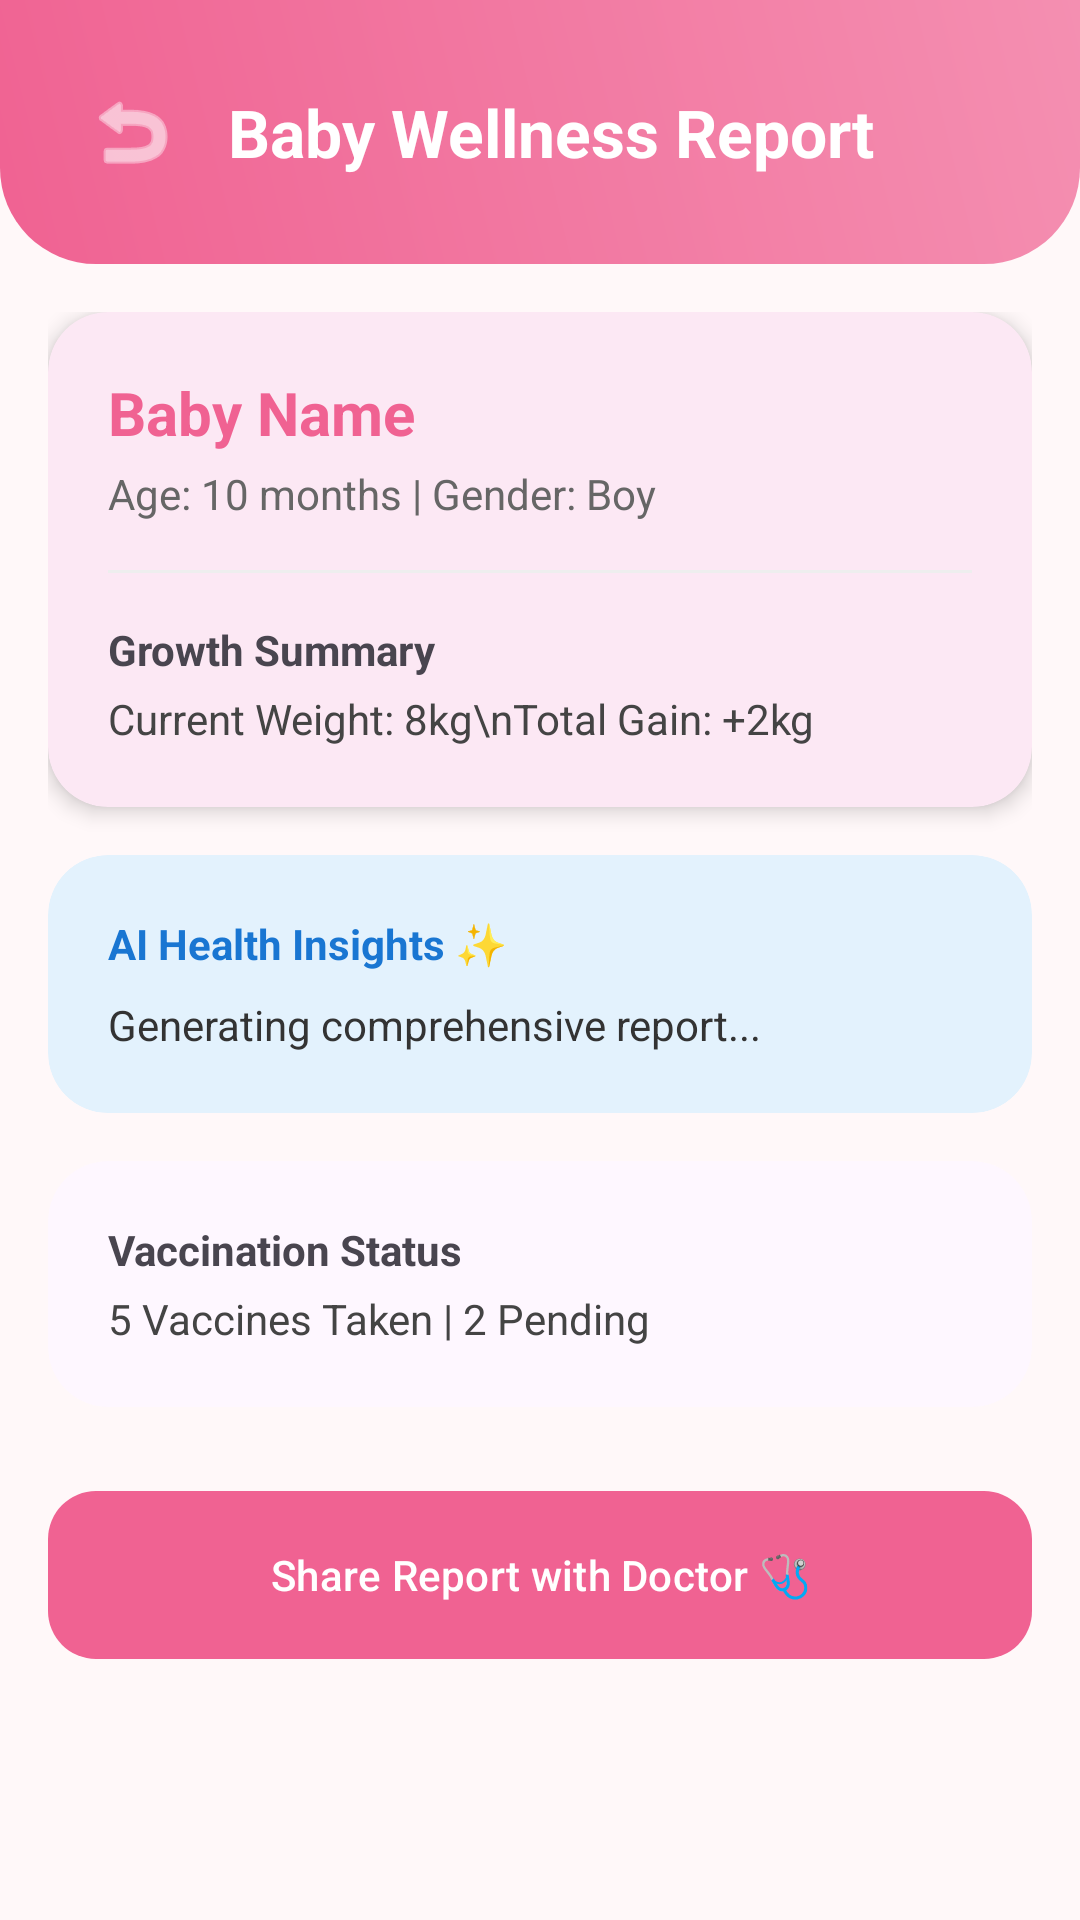

Named icons in this screenshot (1080 x 1920) and their centers, [x,y]:
revert: [133,132]
